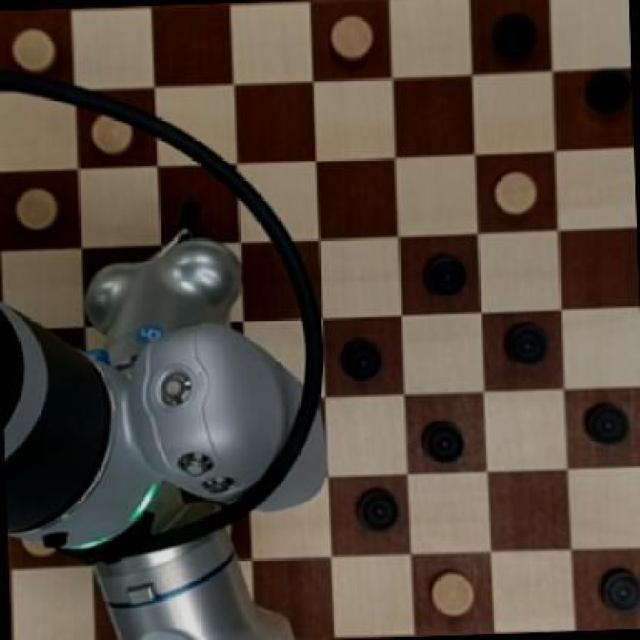black: (413, 244, 475, 308), (568, 67, 636, 123), (578, 400, 636, 458), (498, 318, 556, 374), (349, 484, 402, 540), (590, 560, 639, 616), (336, 333, 386, 386), (418, 412, 468, 464), (488, 11, 538, 57)
white: (487, 162, 543, 220), (5, 19, 64, 71), (427, 565, 482, 620), (11, 182, 63, 232), (325, 11, 375, 63)
